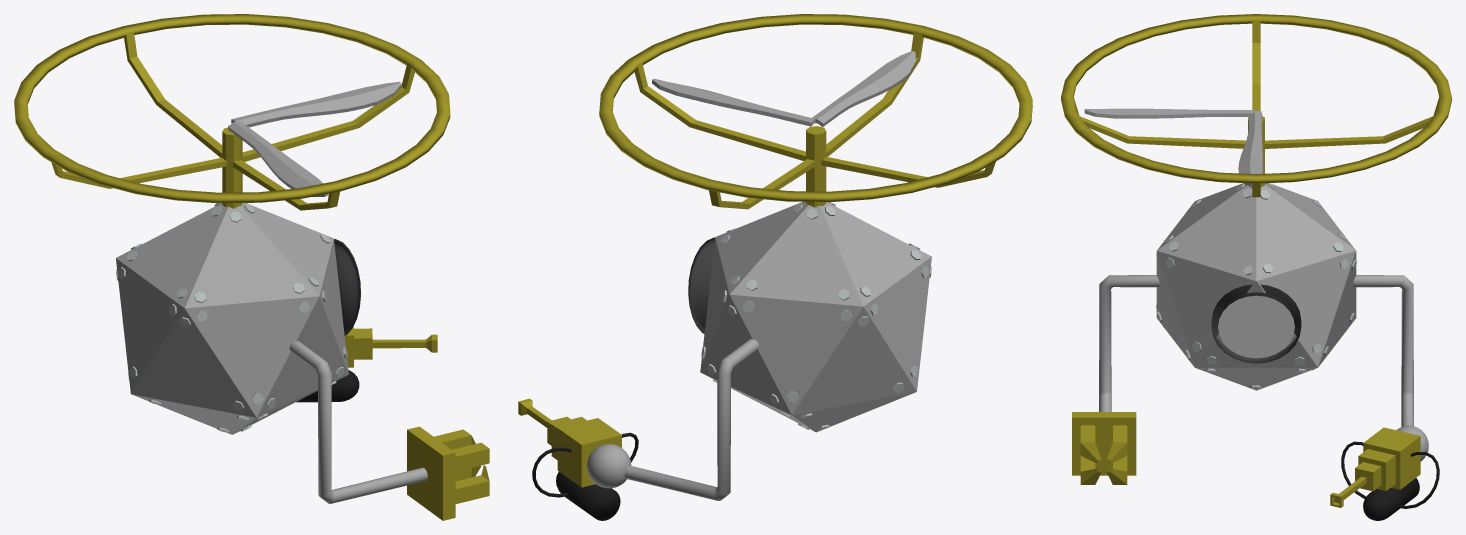
File: drone.fbx
The picture shows the model from 3 angles, left to right: view 1: azimuth 30°, elevation 25°; view 2: azimuth 150°, elevation 25°; view 3: azimuth 270°, elevation 25°; orthographic projection. The views are drawn at different scales.
Visible parts, largest first — view 1: Icosphere, Circle, Cube.002, Plane.005, Cube.001, Cube, Plane.001, Cylinder.058, Plane.002, Cylinder.002, Cube.003, Cylinder (+1 smaller); view 2: Icosphere, Circle, Plane.004, Cube.003, Cube.001, Cube, Plane.002, Cylinder.058, Plane.001, Cylinder.005, Cylinder.002, Sphere (+1 smaller); view 3: Icosphere, Circle, Cube.002, Cylinder.004, Cube.003, Cube, Plane.004, Plane.005, Cylinder.002, Cylinder.058, Plane.002, Cylinder.005 (+2 smaller).
Boxes of the visible parts, x1,y1,x2,y2 form: Icosphere: (116,203,348,434); Circle: (14,14,450,203); Cube.002: (407,426,489,520); Plane.005: (289,341,427,503); Cube.001: (51,62,414,188); Cube: (124,31,340,210); Plane.001: (231,81,401,127); Cylinder.058: (116,203,347,432); Plane.002: (228,121,328,196); Cylinder.002: (334,239,360,335); Cube.003: (344,326,437,367); Cylinder: (222,127,242,208); Icosphere: (700,202,931,432); Circle: (599,14,1032,202); Plane.004: (624,339,759,500); Cube.003: (518,398,621,487); Cube.001: (634,62,995,187); Cube: (709,31,923,209); Plane.002: (811,51,915,126); Cylinder.058: (701,202,931,429); Plane.001: (652,78,817,126); Cylinder.005: (556,472,620,520); Cylinder.002: (688,237,714,333); Sphere: (587,444,631,488); Icosphere: (1156,183,1356,390); Circle: (1061,14,1451,183); Cube.002: (1072,412,1136,484); Cylinder.004: (1218,295,1294,358); Cube.003: (1330,427,1420,507); Cube: (1073,96,1439,148); Plane.004: (1352,275,1413,426); Plane.005: (1099,275,1160,411); Cylinder.002: (1211,284,1301,363); Cylinder.058: (1156,183,1356,388); Plane.002: (1084,108,1253,118); Cylinder.005: (1363,478,1419,520).
Size of the model in its own units: 289 by 242 by 248.
